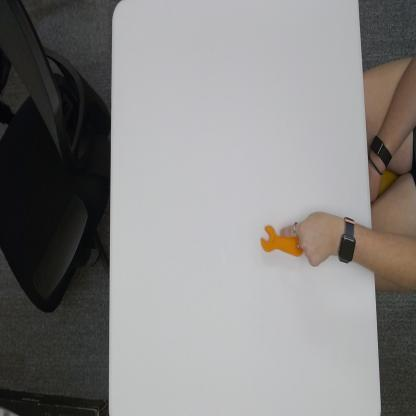Hand: (280, 204, 340, 272)
Screwdriver: (260, 217, 306, 260)
